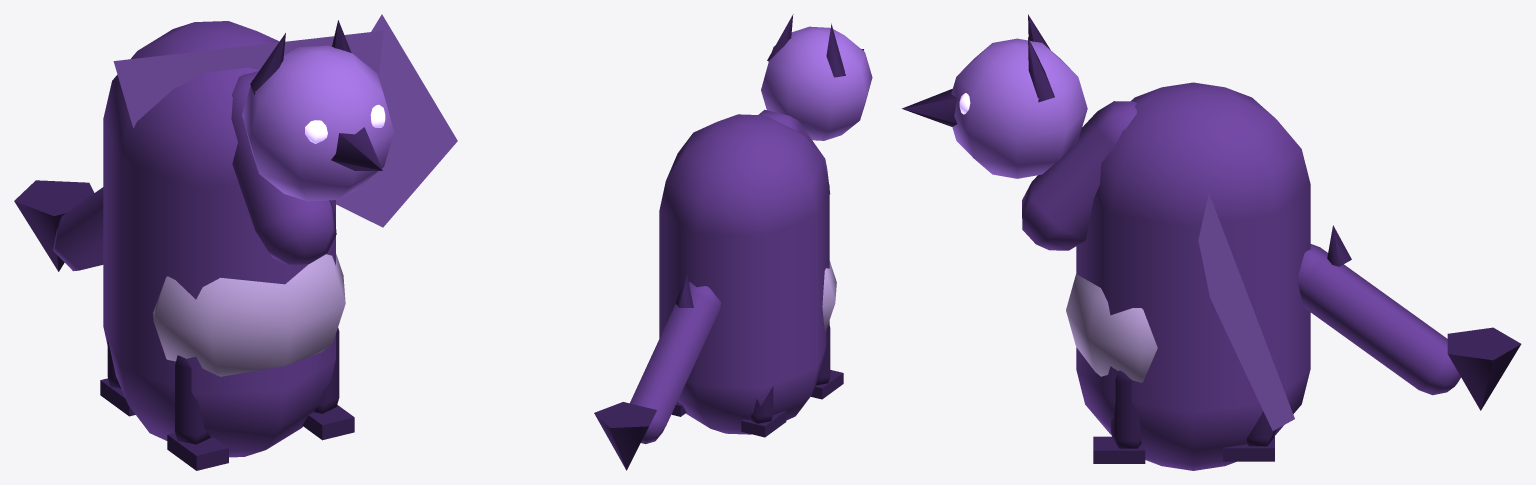
File: purple-dragon.glb
3 renders of one model, left to right at view 1: azimuth 30°, elevation 25°; view 2: azimuth 150°, elevation 25°; view 3: azimuth 270°, elevation 25°, orthographic. The views are drawn at different scales.
Visible parts, largest first — view 1: PurpleDragon; view 2: PurpleDragon; view 3: PurpleDragon.
Part boxes in pixels (<box>): PurpleDragon: <box>14,14,457,470</box>; PurpleDragon: <box>594,14,872,470</box>; PurpleDragon: <box>902,14,1521,470</box>.
Size of the model in its own units: 2.27 by 2.6 by 3.34.
